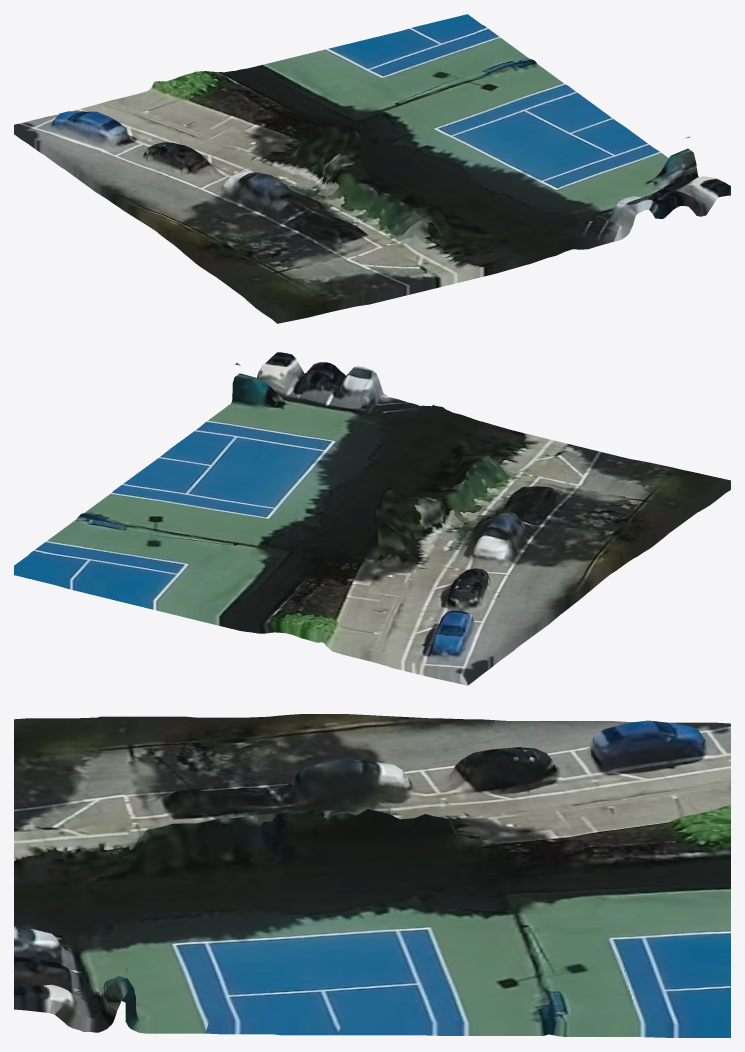
Rendered from z20-167782-405216-h0-yup-uvflip-v3-world.glb.
3 renders of one model, top to bottom at view 1: azimuth 30°, elevation 25°; view 2: azimuth 150°, elevation 25°; view 3: azimuth 270°, elevation 25°, orthographic. The views are drawn at different scales.
Size of the model in its own units: 30.16 by 3.24 by 30.32.
Materials: 1 (1 with a texture image).
